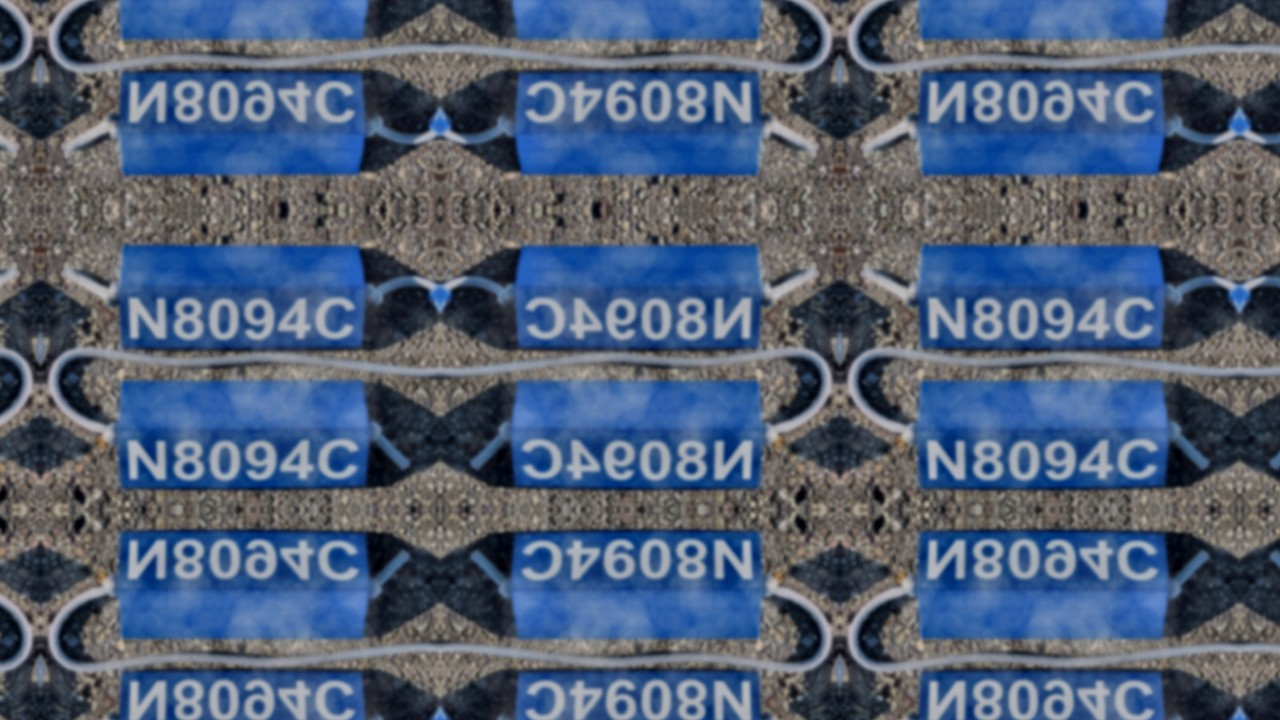chock: (116, 377, 369, 490), (511, 377, 764, 490), (916, 377, 1169, 490), (116, 530, 369, 643), (511, 530, 764, 643), (916, 530, 1169, 643), (117, 70, 364, 178), (516, 70, 763, 178), (917, 70, 1164, 178), (117, 242, 364, 350), (516, 242, 763, 350), (917, 242, 1164, 350), (117, 670, 364, 720), (516, 670, 763, 720), (917, 670, 1164, 720), (116, 0, 369, 43), (511, 0, 764, 43), (916, 0, 1169, 43)
